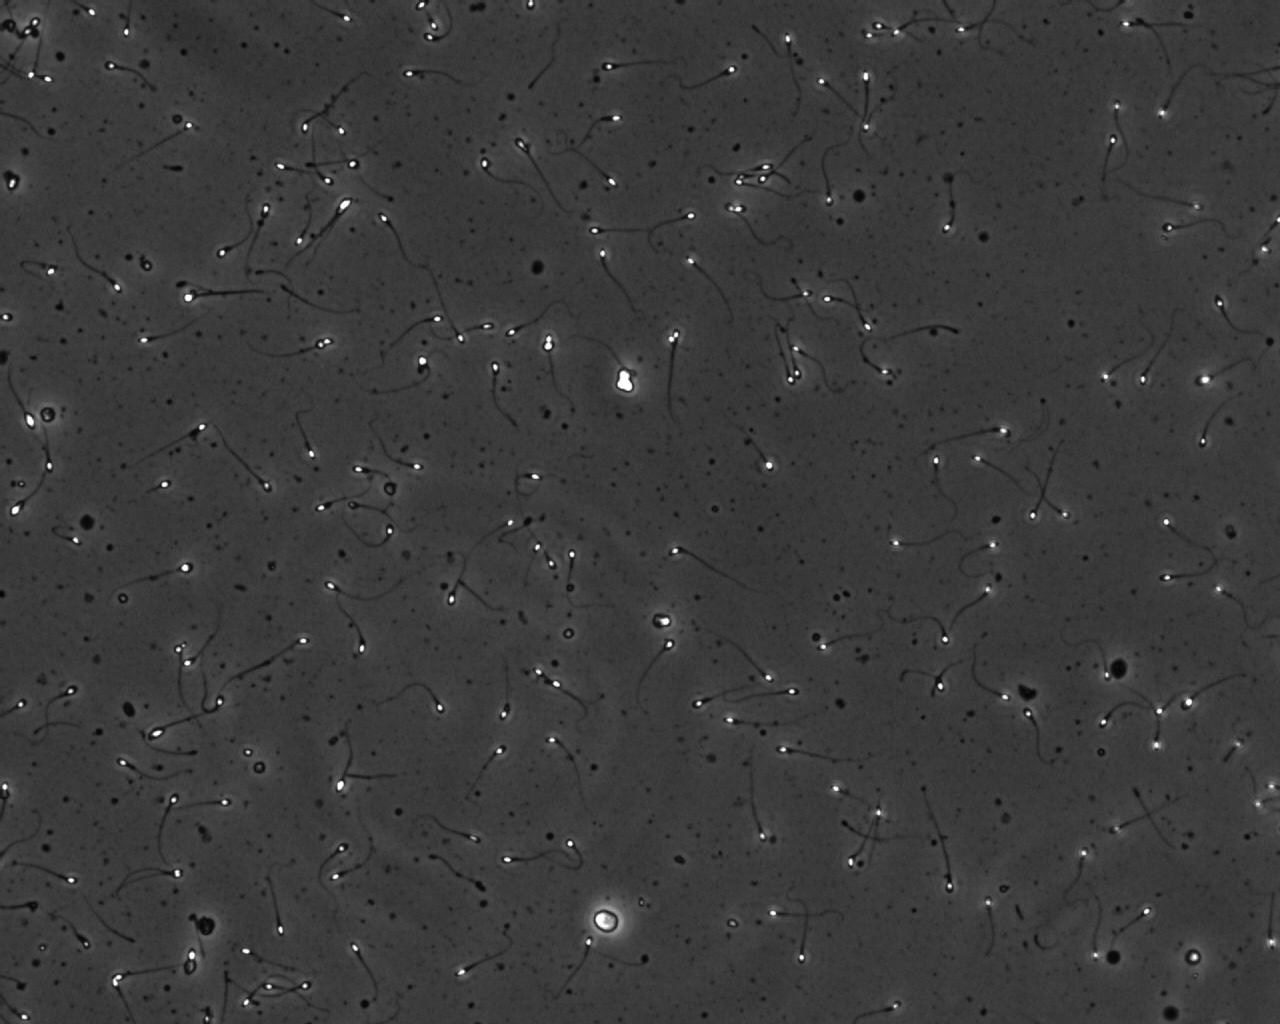cell: (590, 906, 622, 937), (611, 364, 639, 397), (1106, 654, 1131, 683), (194, 912, 219, 939), (36, 403, 59, 427)
